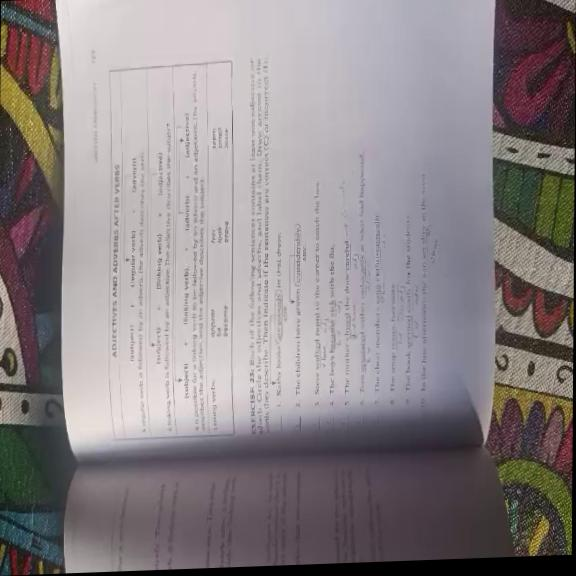Kertas: (73, 0, 486, 448)
